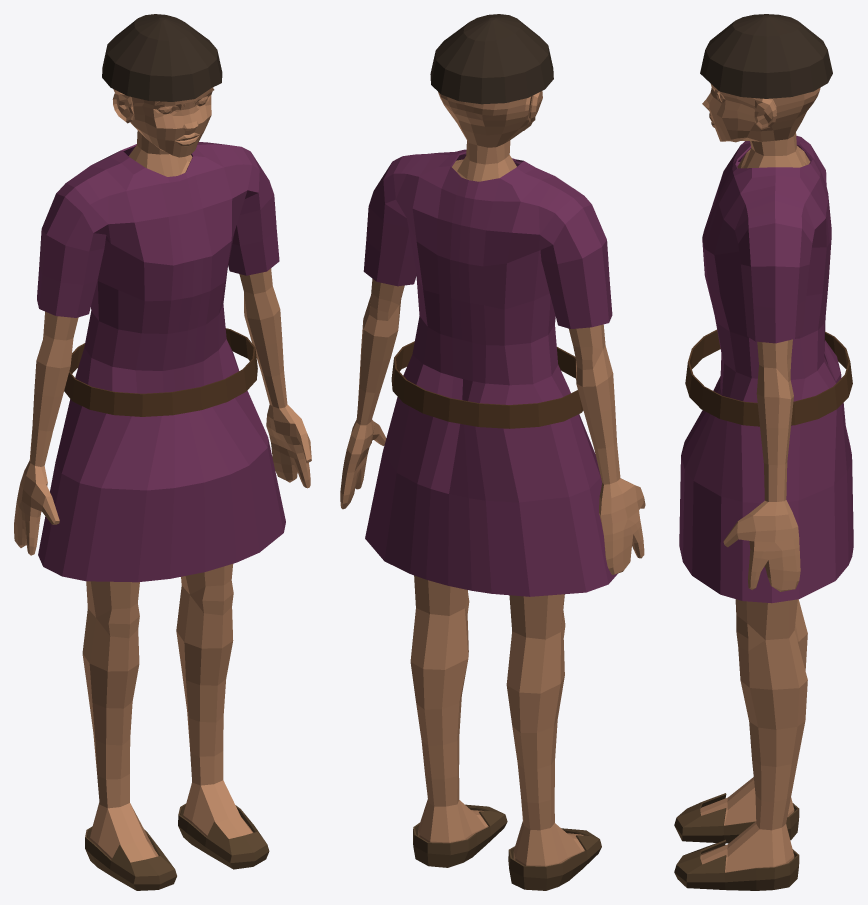
File: noble.glb
3 renders of one model, left to right at view 1: azimuth 30°, elevation 25°; view 2: azimuth 150°, elevation 25°; view 3: azimuth 270°, elevation 25°, orthographic. The views are drawn at different scales.
Parts seen in each view (by area): view 1: noble_RomanTunic, noble_CharacterBase, noble_HairCap, noble_LeatherBelt, noble_RomanSandals; view 2: noble_RomanTunic, noble_CharacterBase, noble_HairCap, noble_LeatherBelt, noble_RomanSandals; view 3: noble_RomanTunic, noble_CharacterBase, noble_HairCap, noble_RomanSandals, noble_LeatherBelt.
Boxes of the visible parts, <box> form: noble_RomanTunic: <box>37,142,285,582</box>; noble_CharacterBase: <box>14,87,311,862</box>; noble_HairCap: <box>102,14,222,101</box>; noble_LeatherBelt: <box>64,328,257,416</box>; noble_RomanSandals: <box>85,803,269,890</box>; noble_RomanTunic: <box>363,149,617,596</box>; noble_CharacterBase: <box>340,91,645,866</box>; noble_HairCap: <box>430,14,553,104</box>; noble_LeatherBelt: <box>391,341,583,428</box>; noble_RomanSandals: <box>413,804,601,890</box>; noble_RomanTunic: <box>679,135,853,603</box>; noble_CharacterBase: <box>700,84,820,872</box>; noble_HairCap: <box>700,14,832,98</box>; noble_RomanSandals: <box>674,793,799,890</box>; noble_LeatherBelt: <box>685,329,852,426</box>.
Bounding box in the file's own units: 0.6533 × 1.84 × 0.3559.
